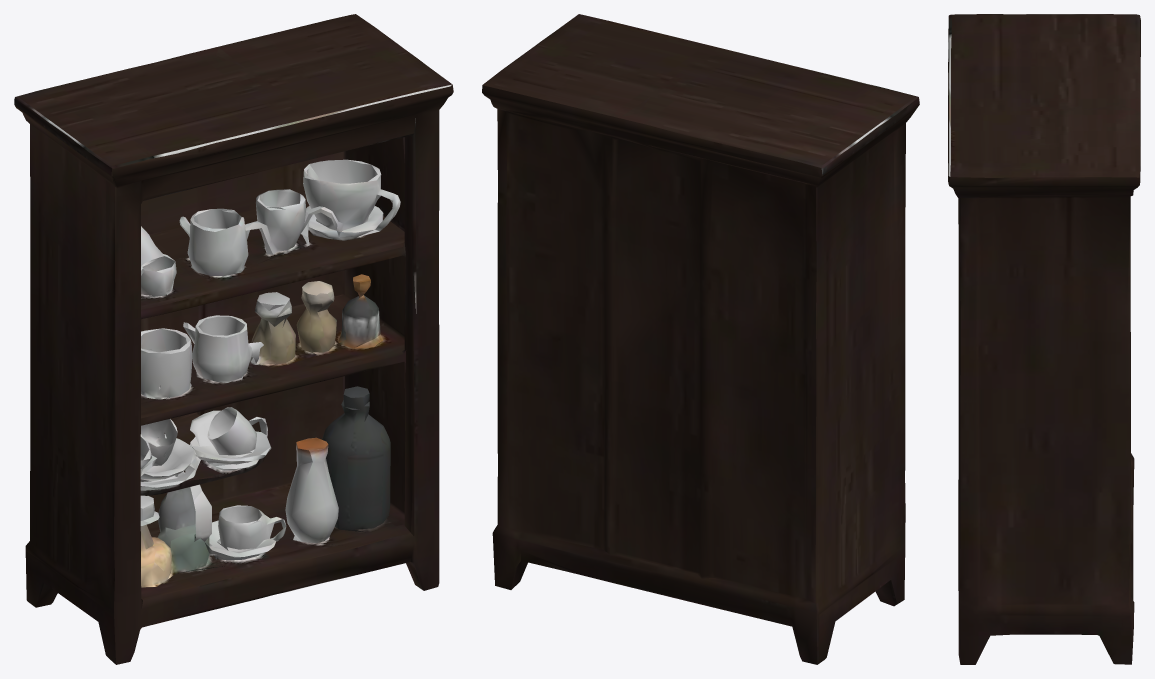
The model's file is cabinet.glb.
The picture shows the model from 3 angles, left to right: view 1: azimuth 30°, elevation 25°; view 2: azimuth 150°, elevation 25°; view 3: azimuth 270°, elevation 25°; orthographic projection. The views are drawn at different scales.
Parts seen in each view (by area): view 1: cabinet; view 2: cabinet; view 3: cabinet.
Boxes of the visible parts, x1,y1,x2,y2 form: cabinet: (14,14,453,664); cabinet: (482,14,919,664); cabinet: (948,14,1140,664).
Bounding box in the file's own units: 1.42 × 2 × 0.7064.
1 material, 1 textured.
